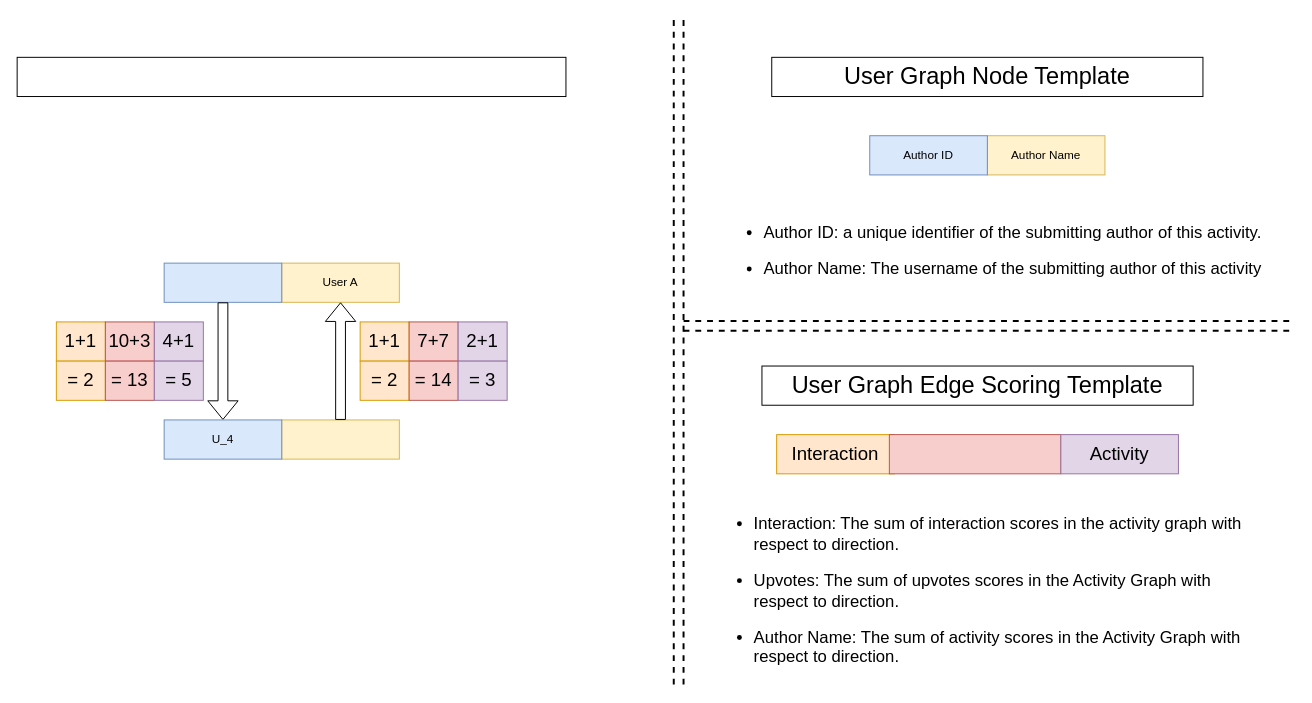
Some shapes in this 1312 by 703 pixel diagram are drawn without their labels. Here are the shapes that lost their labels. From the top down, the box of each, then its label:
(16, 56, 566, 97): User Graph Example
(163, 262, 282, 302): U_1
(281, 419, 399, 459): User D
(888, 434, 1061, 474): Upvotes
